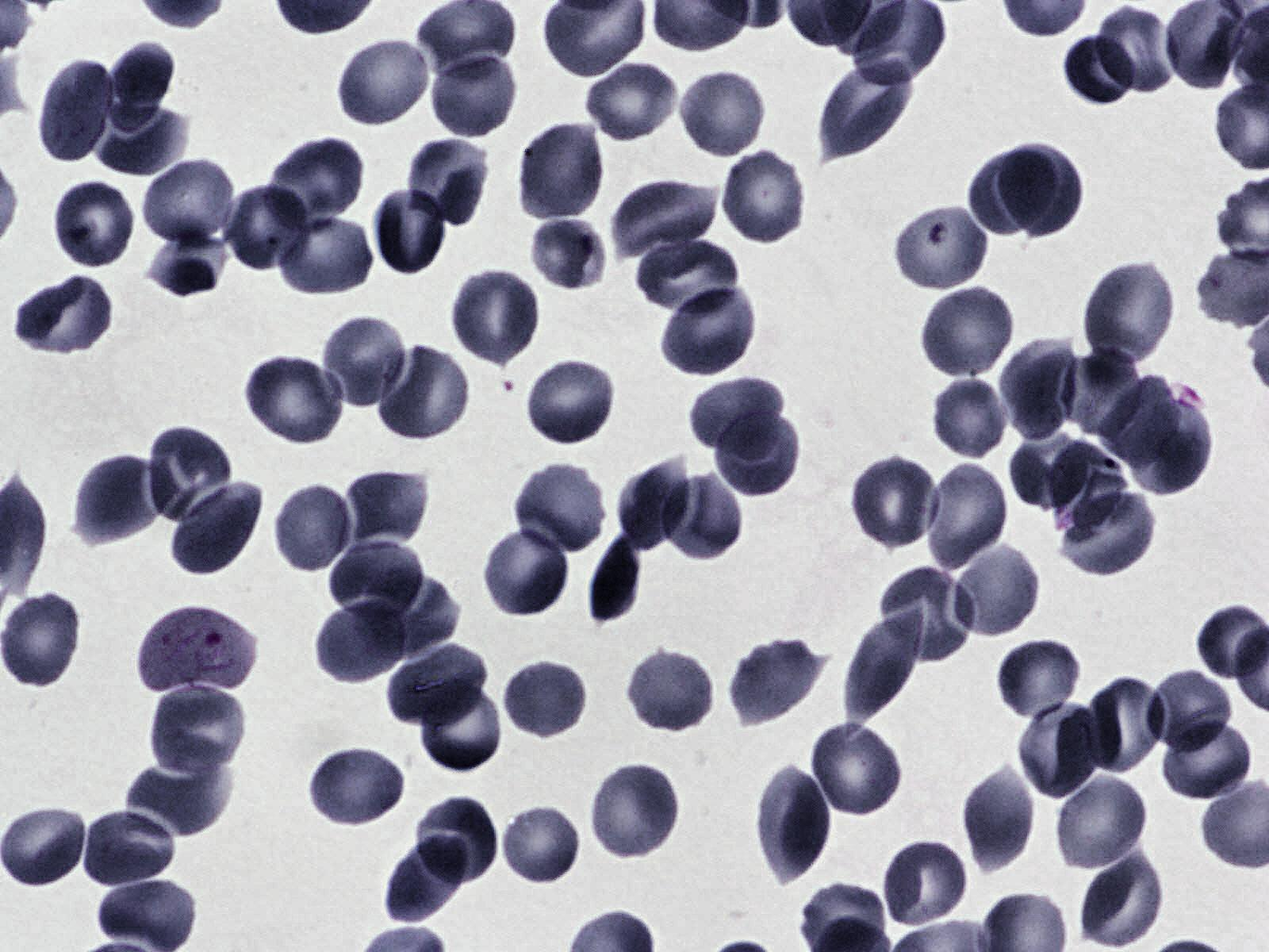Infected: (136, 603, 261, 698)
Uninfected: (1115, 393, 1211, 503), (145, 680, 243, 786), (348, 571, 462, 658), (146, 416, 236, 525), (820, 60, 914, 163), (516, 121, 607, 227), (758, 768, 838, 887), (730, 635, 830, 730), (73, 451, 168, 550), (660, 284, 759, 379), (1055, 493, 1159, 582), (388, 640, 493, 727), (451, 267, 543, 366), (845, 606, 920, 727), (271, 134, 366, 229), (612, 178, 721, 260), (921, 286, 1015, 381), (166, 482, 261, 576), (1086, 265, 1171, 370), (926, 461, 1007, 570), (881, 567, 973, 662), (80, 805, 181, 891), (524, 358, 618, 450), (813, 720, 903, 816), (592, 762, 675, 866), (893, 202, 991, 288), (378, 344, 468, 437), (669, 466, 750, 569), (36, 61, 116, 165), (0, 593, 82, 694), (415, 682, 504, 774), (1057, 777, 1145, 869), (686, 375, 785, 456), (627, 647, 717, 736), (516, 466, 605, 556), (852, 457, 939, 549), (1019, 702, 1100, 800), (970, 148, 1060, 236), (414, 796, 504, 884), (952, 543, 1037, 636), (881, 841, 968, 930), (499, 658, 589, 744), (680, 69, 766, 159), (339, 40, 430, 125), (274, 482, 357, 575), (141, 159, 232, 243), (247, 359, 341, 440), (481, 529, 568, 616), (427, 54, 515, 140), (312, 750, 406, 830), (1004, 337, 1076, 441), (638, 240, 739, 314), (999, 144, 1082, 234), (725, 148, 803, 243), (99, 880, 203, 951), (16, 275, 113, 351), (126, 768, 234, 836), (405, 140, 488, 228), (999, 637, 1082, 725), (1164, 1, 1245, 91), (1100, 374, 1179, 466), (1049, 437, 1125, 532), (330, 533, 419, 614), (1063, 348, 1142, 439), (963, 769, 1032, 873), (372, 183, 449, 276), (281, 219, 376, 294), (316, 608, 408, 685), (714, 409, 796, 495), (50, 180, 132, 265), (1087, 680, 1166, 768), (585, 62, 674, 140), (932, 375, 1011, 462), (326, 317, 404, 405), (1083, 854, 1160, 943), (1145, 673, 1231, 752), (500, 804, 582, 886), (385, 848, 472, 925), (1164, 722, 1252, 798), (1098, 9, 1178, 90), (230, 188, 309, 270), (0, 811, 85, 885), (622, 457, 686, 553), (105, 44, 173, 134), (97, 109, 190, 174), (1010, 433, 1087, 511), (590, 522, 642, 631), (151, 224, 227, 297), (347, 474, 427, 543), (529, 221, 605, 289), (1062, 36, 1135, 103)
